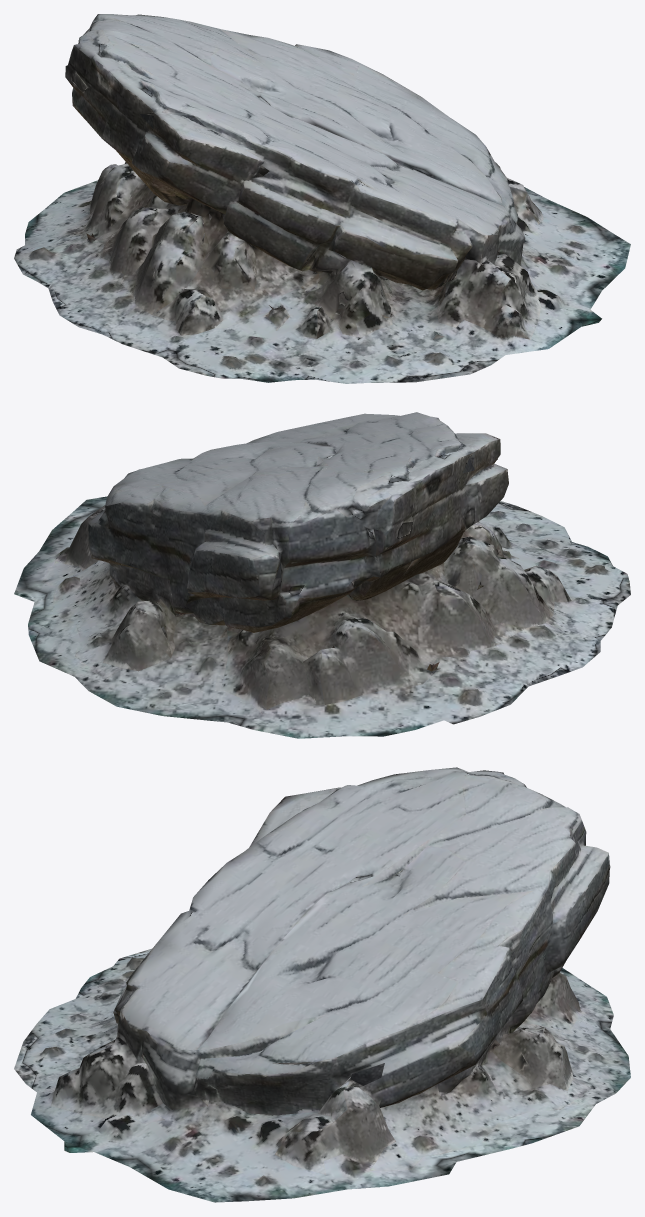
The model's file is snow-big-rock-3.glb.
The picture shows the model from 3 angles, top to bottom: view 1: azimuth 30°, elevation 25°; view 2: azimuth 150°, elevation 25°; view 3: azimuth 270°, elevation 25°; orthographic projection. The views are drawn at different scales.
Parts seen in each view (by area): view 1: geometry_0; view 2: geometry_0; view 3: geometry_0.
Part boxes in pixels (x1=…): geometry_0: x1=14, y1=14, x2=630, y2=383; geometry_0: x1=14, y1=412, x2=630, y2=738; geometry_0: x1=14, y1=767, x2=630, y2=1202.
Size of the model in its own units: 0.9547 by 0.3958 by 0.9383.
Materials: 1 (1 with a texture image).
